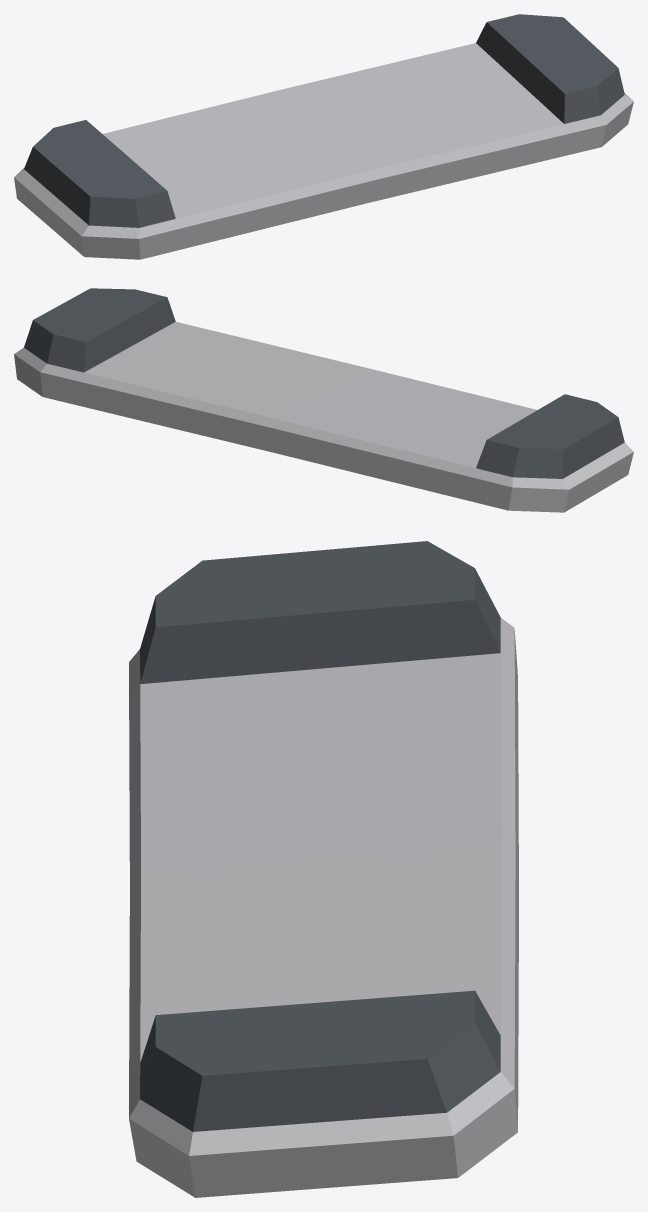
The model's file is Mothership_01_Detail_3.fbx.
3 renders of one model, top to bottom at view 1: azimuth 30°, elevation 25°; view 2: azimuth 150°, elevation 25°; view 3: azimuth 270°, elevation 25°, orthographic. The views are drawn at different scales.
Visible parts, largest first — view 1: Mothership_01_Detail_3; view 2: Mothership_01_Detail_3; view 3: Mothership_01_Detail_3.
Boxes of the visible parts, x1=… form: Mothership_01_Detail_3: x1=14, y1=14, x2=633, y2=259; Mothership_01_Detail_3: x1=14, y1=288, x2=633, y2=512; Mothership_01_Detail_3: x1=129, y1=541, x2=518, y2=1197.
Size of the model in its own units: 1299 by 158 by 395.
Materials: 1 (1 with a texture image).
